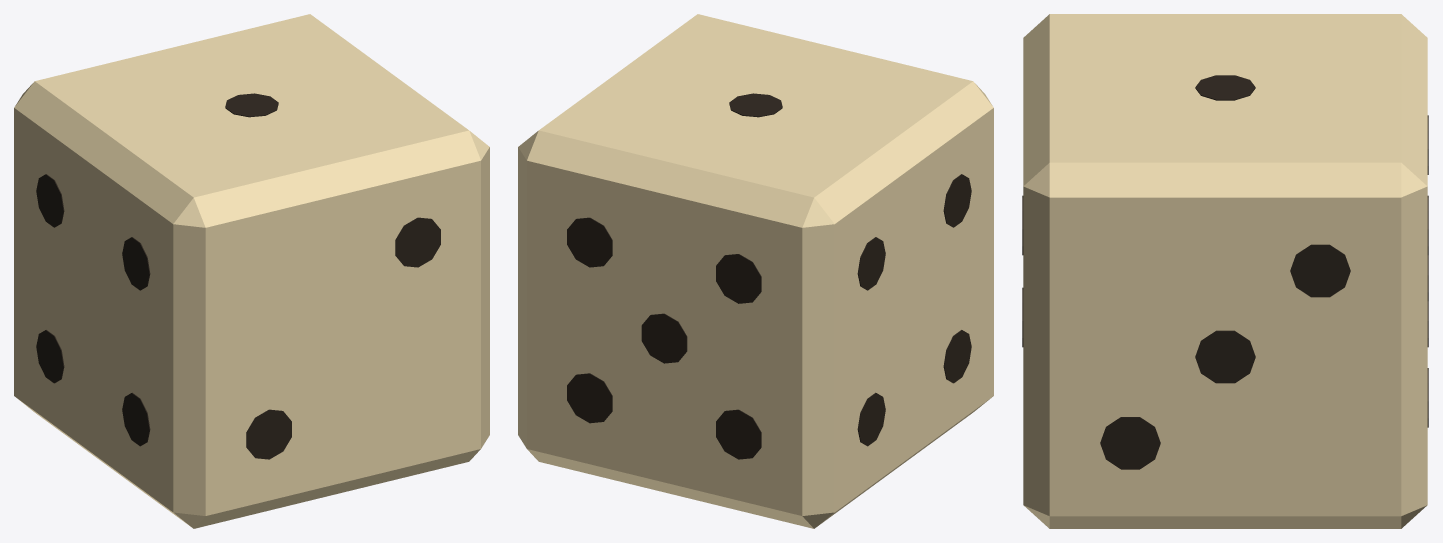
The model's file is die.glb.
3 renders of one model, left to right at view 1: azimuth 30°, elevation 25°; view 2: azimuth 150°, elevation 25°; view 3: azimuth 270°, elevation 25°, orthographic. The views are drawn at different scales.
Visible parts, largest first — view 1: ivory-die, printed-pips; view 2: ivory-die, printed-pips; view 3: ivory-die, printed-pips.
Boxes of the visible parts, x1,y1,x2,y2 form: ivory-die: (14, 14, 489, 528); printed-pips: (36, 93, 440, 459); ivory-die: (518, 14, 993, 528); printed-pips: (567, 93, 971, 459); ivory-die: (1023, 14, 1427, 528); printed-pips: (1022, 75, 1428, 469).
Bounding box in the file's own units: 0.8 × 0.8 × 0.8.
